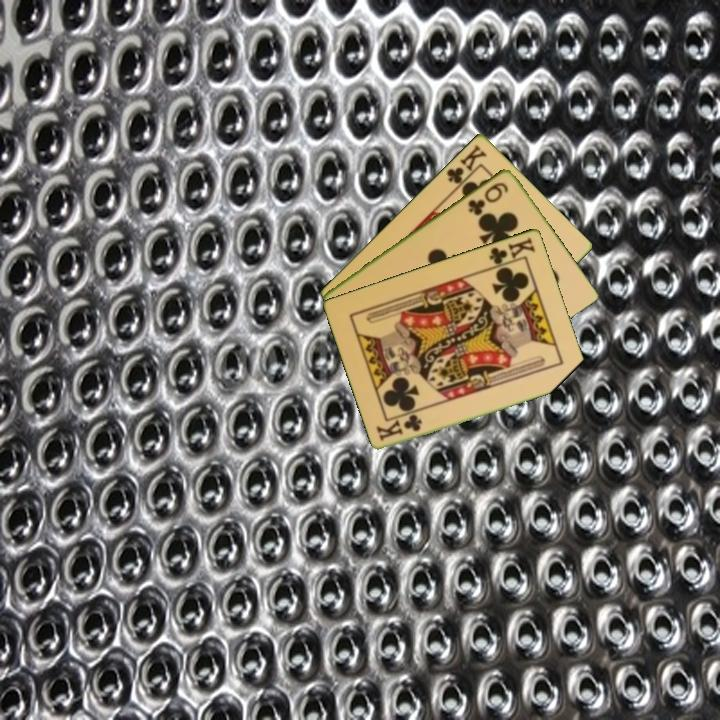6c: (464, 178, 511, 218)
Kc: (443, 141, 490, 192), (485, 233, 539, 270), (373, 411, 425, 444)
